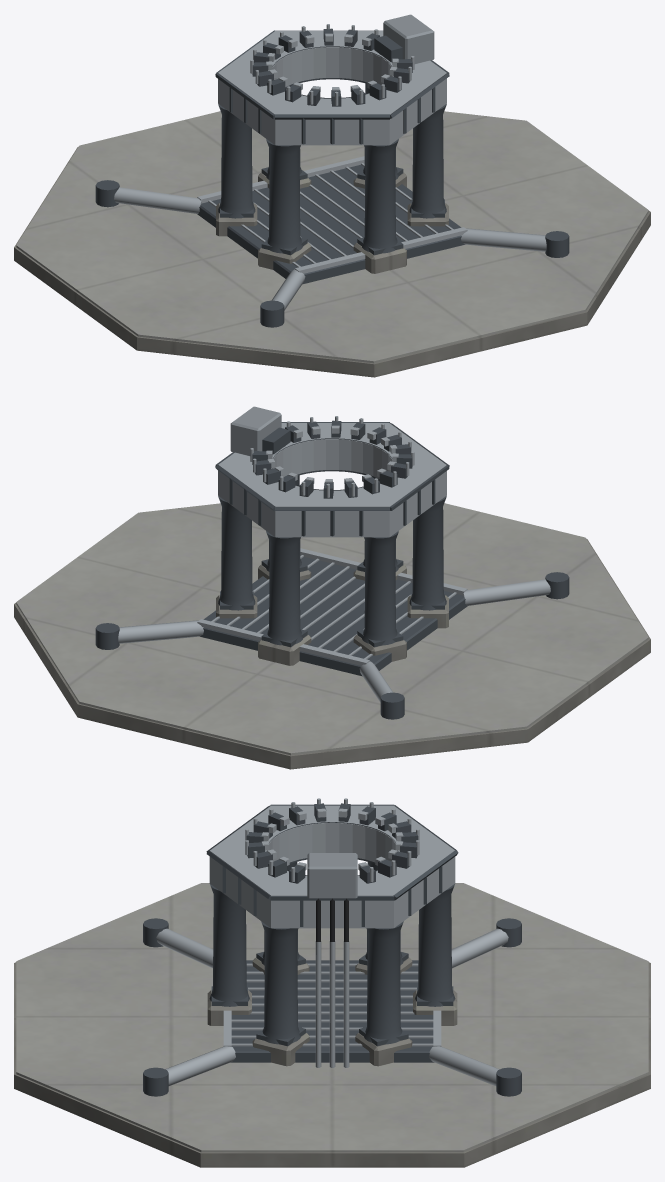
File: mount_raised.glb
The picture shows the model from 3 angles, top to bottom: view 1: azimuth 30°, elevation 25°; view 2: azimuth 150°, elevation 25°; view 3: azimuth 270°, elevation 25°; orthographic projection. The views are drawn at different scales.
Visible parts, largest first — view 1: hardstand, mount_raised, plate; view 2: hardstand, mount_raised, plate; view 3: hardstand, mount_raised, plate.
Part boxes in pixels (left/top/right/bottom): hardstand: left=14, top=97, right=650, bottom=377; mount_raised: left=215, top=14, right=449, bottom=273; plate: left=95, top=156, right=569, bottom=327; hardstand: left=14, top=489, right=650, bottom=769; mount_raised: left=215, top=406, right=449, bottom=665; plate: left=95, top=548, right=569, bottom=719; hardstand: left=14, top=883, right=650, bottom=1167; mount_raised: left=206, top=798, right=458, bottom=1067; plate: left=143, top=918, right=521, bottom=1096.
Bounding box in the file's own units: 15.82 × 5.84 × 15.82.
6 materials, 2 textured.
